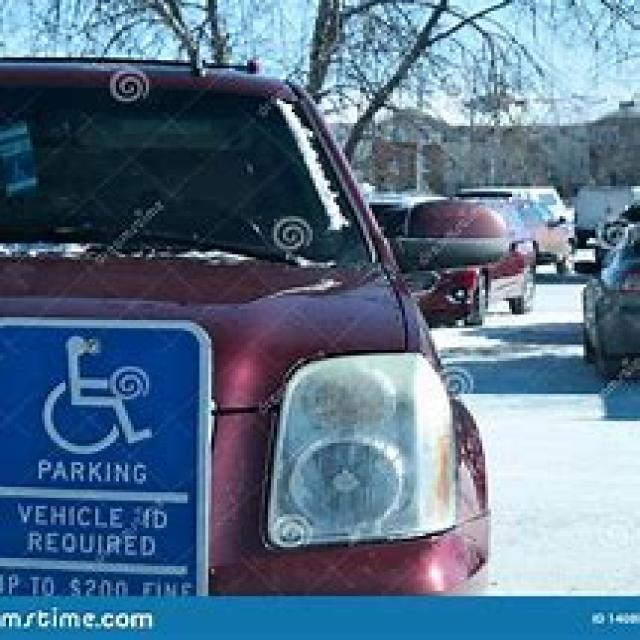symbol_of_access: (38, 336, 153, 454), (10, 156, 30, 187)
